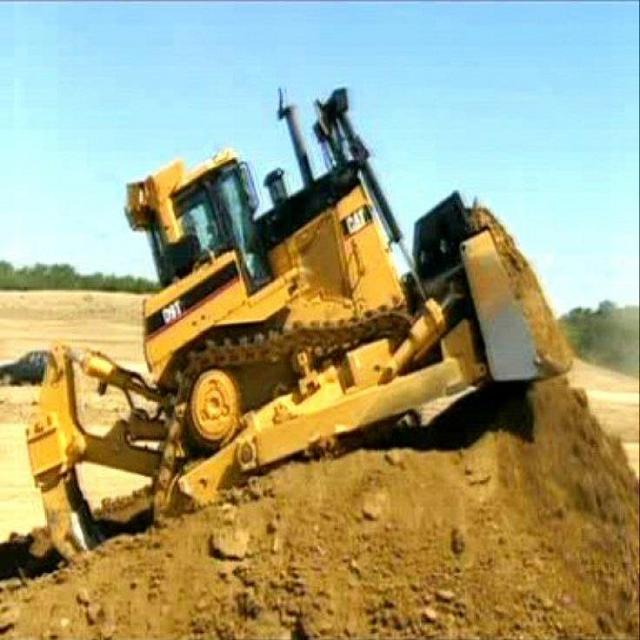Bulldozer: (21, 70, 597, 585)
